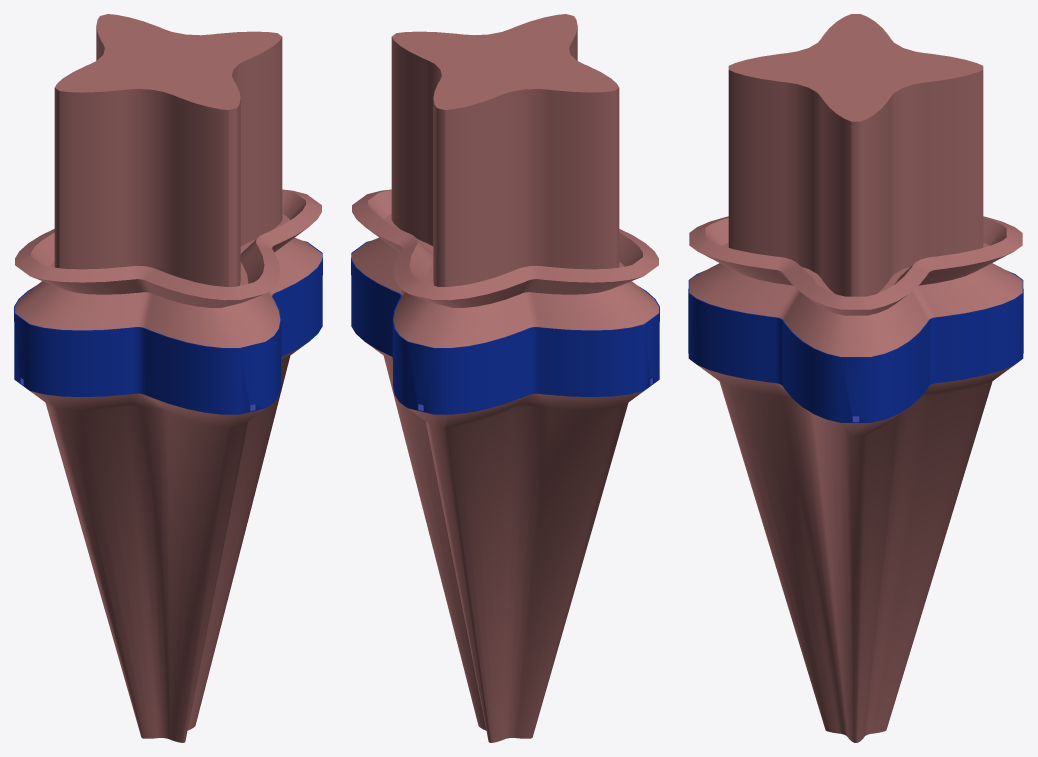
Rendered from SS Module Industrial 5.FBX.
3 views of the same model, side by side, from view 1: azimuth 30°, elevation 25°; view 2: azimuth 150°, elevation 25°; view 3: azimuth 270°, elevation 25° (orthographic).
Parts seen in each view (by area): view 1: floor018, Ellipse002; view 2: floor018, Ellipse002; view 3: floor018, Ellipse002.
Part boxes in pixels (x1=…): floor018: x1=15, y1=14, x2=321, y2=347; Ellipse002: x1=14, y1=241, x2=322, y2=742; floor018: x1=352, y1=14, x2=658, y2=347; Ellipse002: x1=351, y1=241, x2=659, y2=742; floor018: x1=689, y1=14, x2=1022, y2=356; Ellipse002: x1=688, y1=271, x2=1023, y2=742.
Bounding box in the file's own units: 197 × 430 × 197.
